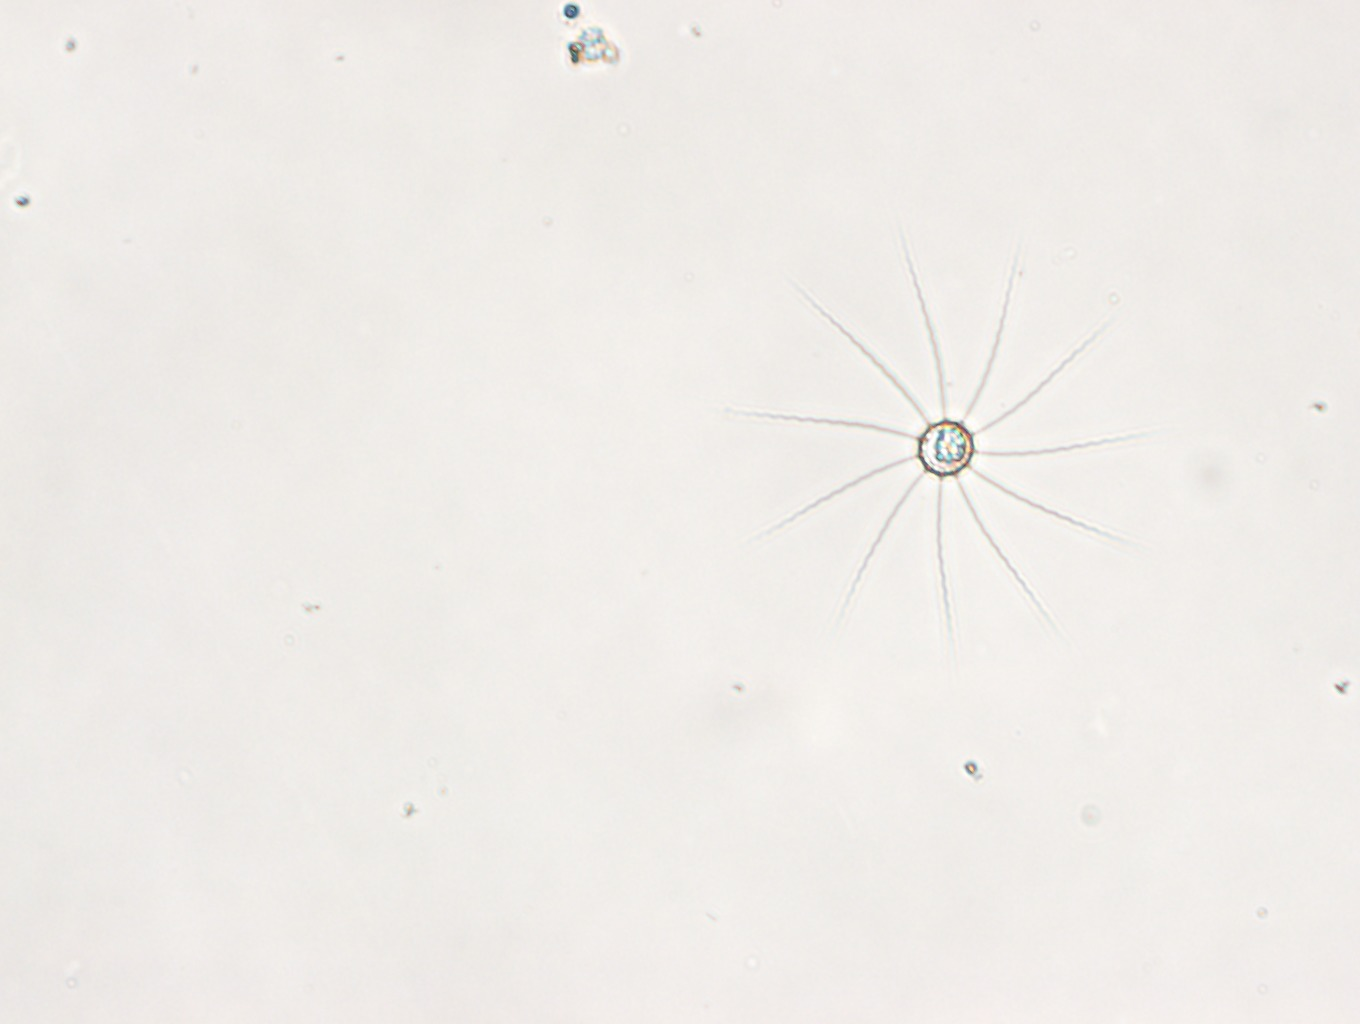bacteriastrum: (721, 231, 1163, 638)
